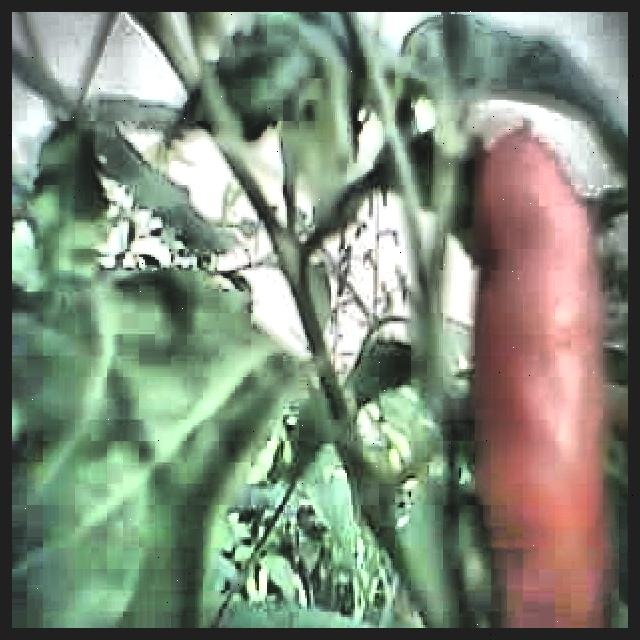Cabai: (475, 119, 610, 601)
